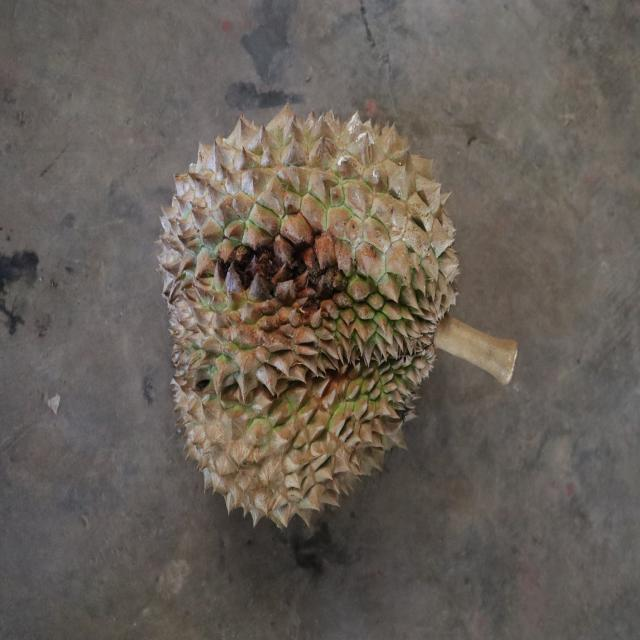defective: (153, 101, 462, 540)
